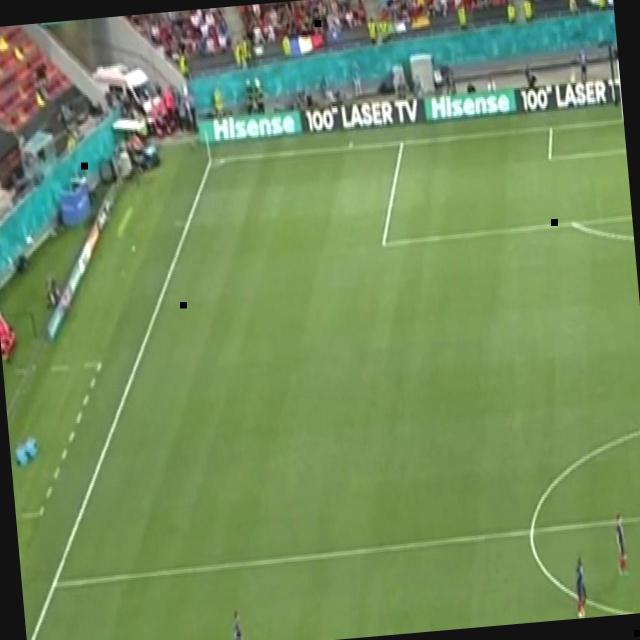player-white: (570, 548, 592, 619), (610, 510, 631, 582), (224, 606, 252, 640)
